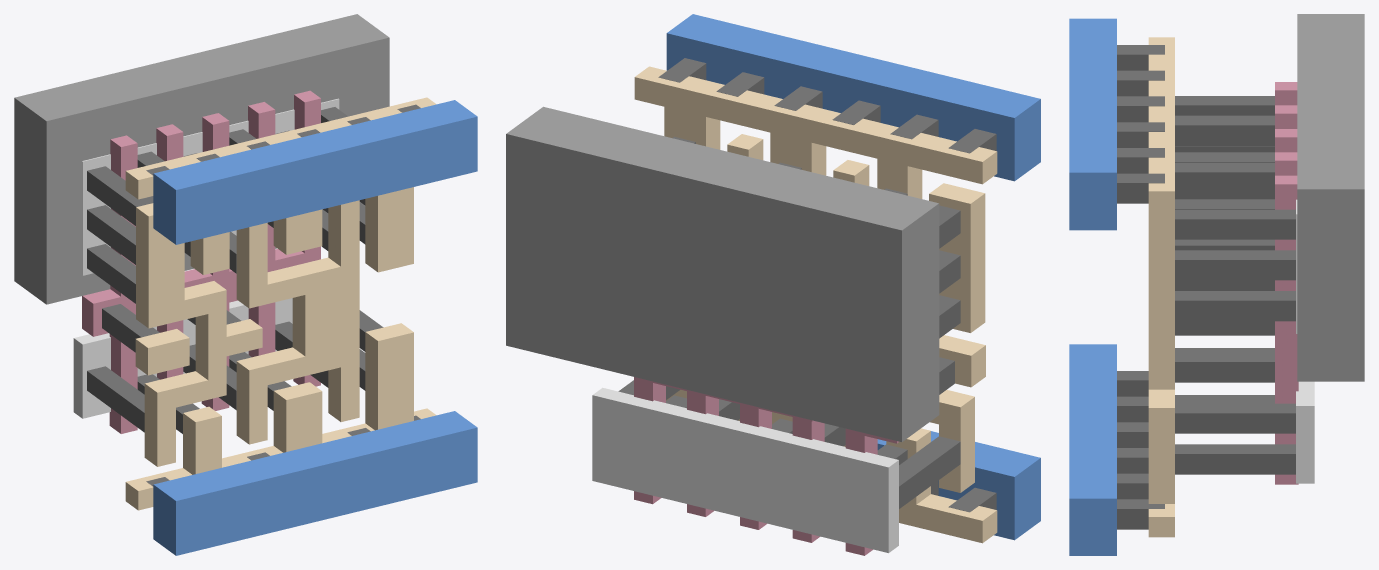
File: sky130_fd_sc_hd__buf_4.gds.gltf
3 renders of one model, left to right at view 1: azimuth 30°, elevation 25°; view 2: azimuth 150°, elevation 25°; view 3: azimuth 270°, elevation 25°, orthographic. The views are drawn at different scales.
Visible parts, largest first — view 1: sky130_fd_sc_hd__buf_4_li1, sky130_fd_sc_hd__buf_4_met1, sky130_fd_sc_hd__buf_4_nwell, sky130_fd_sc_hd__buf_4_licon, sky130_fd_sc_hd__buf_4_poly, sky130_fd_sc_hd__buf_4_diff, sky130_fd_sc_hd__buf_4_mcon; view 2: sky130_fd_sc_hd__buf_4_nwell, sky130_fd_sc_hd__buf_4_li1, sky130_fd_sc_hd__buf_4_diff, sky130_fd_sc_hd__buf_4_met1, sky130_fd_sc_hd__buf_4_licon, sky130_fd_sc_hd__buf_4_mcon, sky130_fd_sc_hd__buf_4_poly; view 3: sky130_fd_sc_hd__buf_4_licon, sky130_fd_sc_hd__buf_4_nwell, sky130_fd_sc_hd__buf_4_met1, sky130_fd_sc_hd__buf_4_li1, sky130_fd_sc_hd__buf_4_mcon, sky130_fd_sc_hd__buf_4_poly, sky130_fd_sc_hd__buf_4_diff.
Part boxes in pixels (x1,y1,x2,y2): sky130_fd_sc_hd__buf_4_li1: (125,97,436,510); sky130_fd_sc_hd__buf_4_met1: (153,100,477,555); sky130_fd_sc_hd__buf_4_nwell: (14,14,389,304); sky130_fd_sc_hd__buf_4_licon: (87,107,383,433); sky130_fd_sc_hd__buf_4_poly: (82,90,320,433); sky130_fd_sc_hd__buf_4_diff: (73,98,339,418); sky130_fd_sc_hd__buf_4_mcon: (146,104,420,486); sky130_fd_sc_hd__buf_4_nwell: (506,106,939,441); sky130_fd_sc_hd__buf_4_li1: (634,66,997,543); sky130_fd_sc_hd__buf_4_diff: (592,387,898,553); sky130_fd_sc_hd__buf_4_met1: (666,14,1040,540); sky130_fd_sc_hd__buf_4_licon: (618,136,960,508); sky130_fd_sc_hd__buf_4_mcon: (658,58,996,512); sky130_fd_sc_hd__buf_4_poly: (634,377,898,555); sky130_fd_sc_hd__buf_4_licon: (1175,96,1295,474); sky130_fd_sc_hd__buf_4_nwell: (1297,14,1364,381); sky130_fd_sc_hd__buf_4_met1: (1069,18,1116,555); sky130_fd_sc_hd__buf_4_li1: (1148,37,1174,537); sky130_fd_sc_hd__buf_4_mcon: (1117,45,1164,529); sky130_fd_sc_hd__buf_4_poly: (1275,82,1298,484); sky130_fd_sc_hd__buf_4_diff: (1296,199,1314,483).
Bounding box in the file's own units: 3.14 × 3.2 × 2.24.
